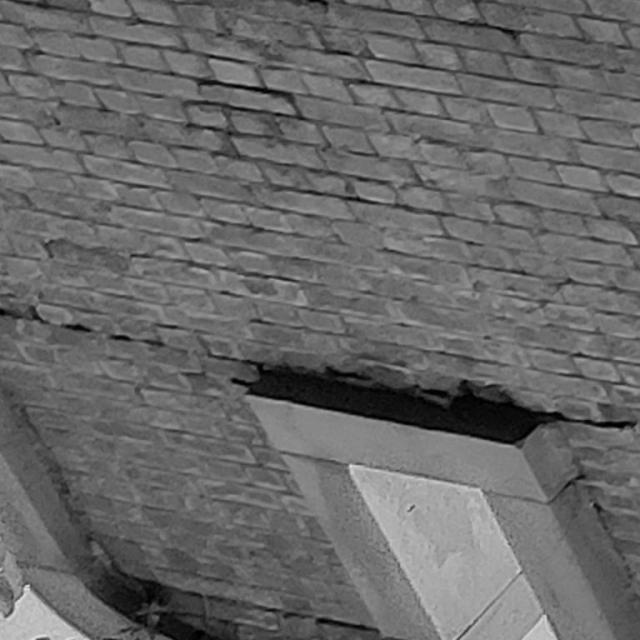crack: (1, 308, 636, 429), (110, 558, 378, 630)
